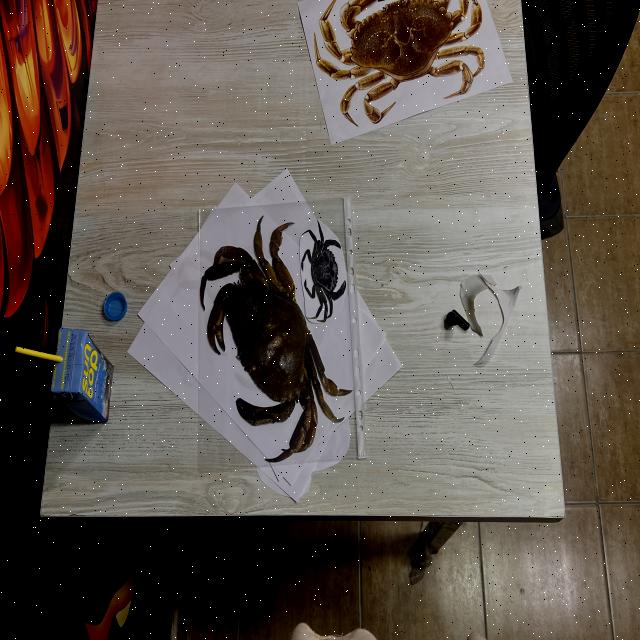European_Green_Crab: (297, 216, 350, 326)
